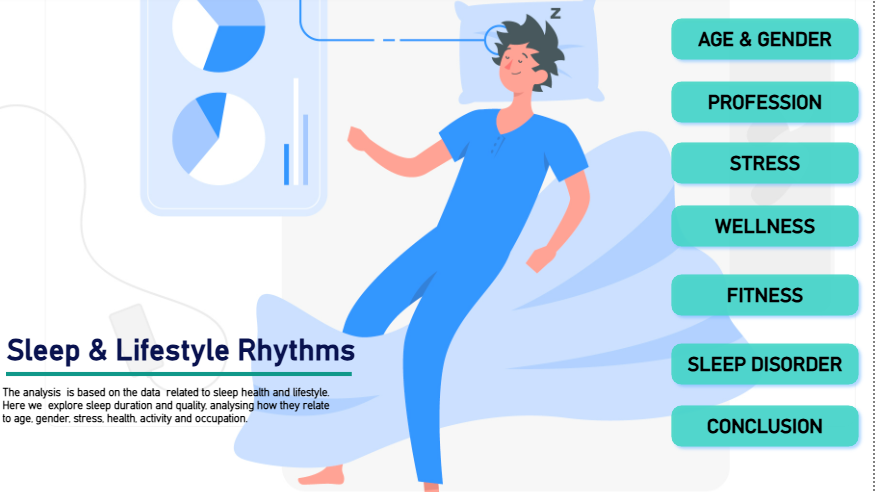

What the dashboard file says about the page in this screenshot:
{"tool":"powerbi","page":{"name":"HOME","canvas":[1280,720],"ordinal":0},"visuals":[{"type":"textbox","box":[0,481.5,532.7,77.6],"z":0},{"type":"actionButton","box":[974.6,17.6,292.7,79],"z":1000},{"type":"actionButton","box":[974.6,199,292.7,79],"z":2000},{"type":"actionButton","box":[974.6,109.8,292.7,79],"z":3000},{"type":"actionButton","box":[974.6,291.2,292.7,79],"z":4000},{"type":"actionButton","box":[974.6,392.2,292.7,79],"z":5000},{"type":"actionButton","box":[974.6,493.2,292.7,79],"z":6000},{"type":"textbox","box":[0,559,657.1,83.4],"z":7000},{"type":"shape","box":[10.2,471.2,506.3,152.2],"z":8000},{"type":"actionButton","box":[974.6,583.9,292.7,79],"z":9000}]}

Visuals, with their boxes in screenshot pixels (x1, y1, x2, y2), scaled from the page's 1280x720 canvas onto the 876x492 screenshot:
textbox: (0,329,365,382)
actionButton: (667,12,867,66)
actionButton: (667,136,867,190)
actionButton: (667,75,867,129)
actionButton: (667,199,867,253)
actionButton: (667,268,867,322)
actionButton: (667,337,867,391)
textbox: (0,382,450,439)
shape: (7,322,353,426)
actionButton: (667,399,867,453)
